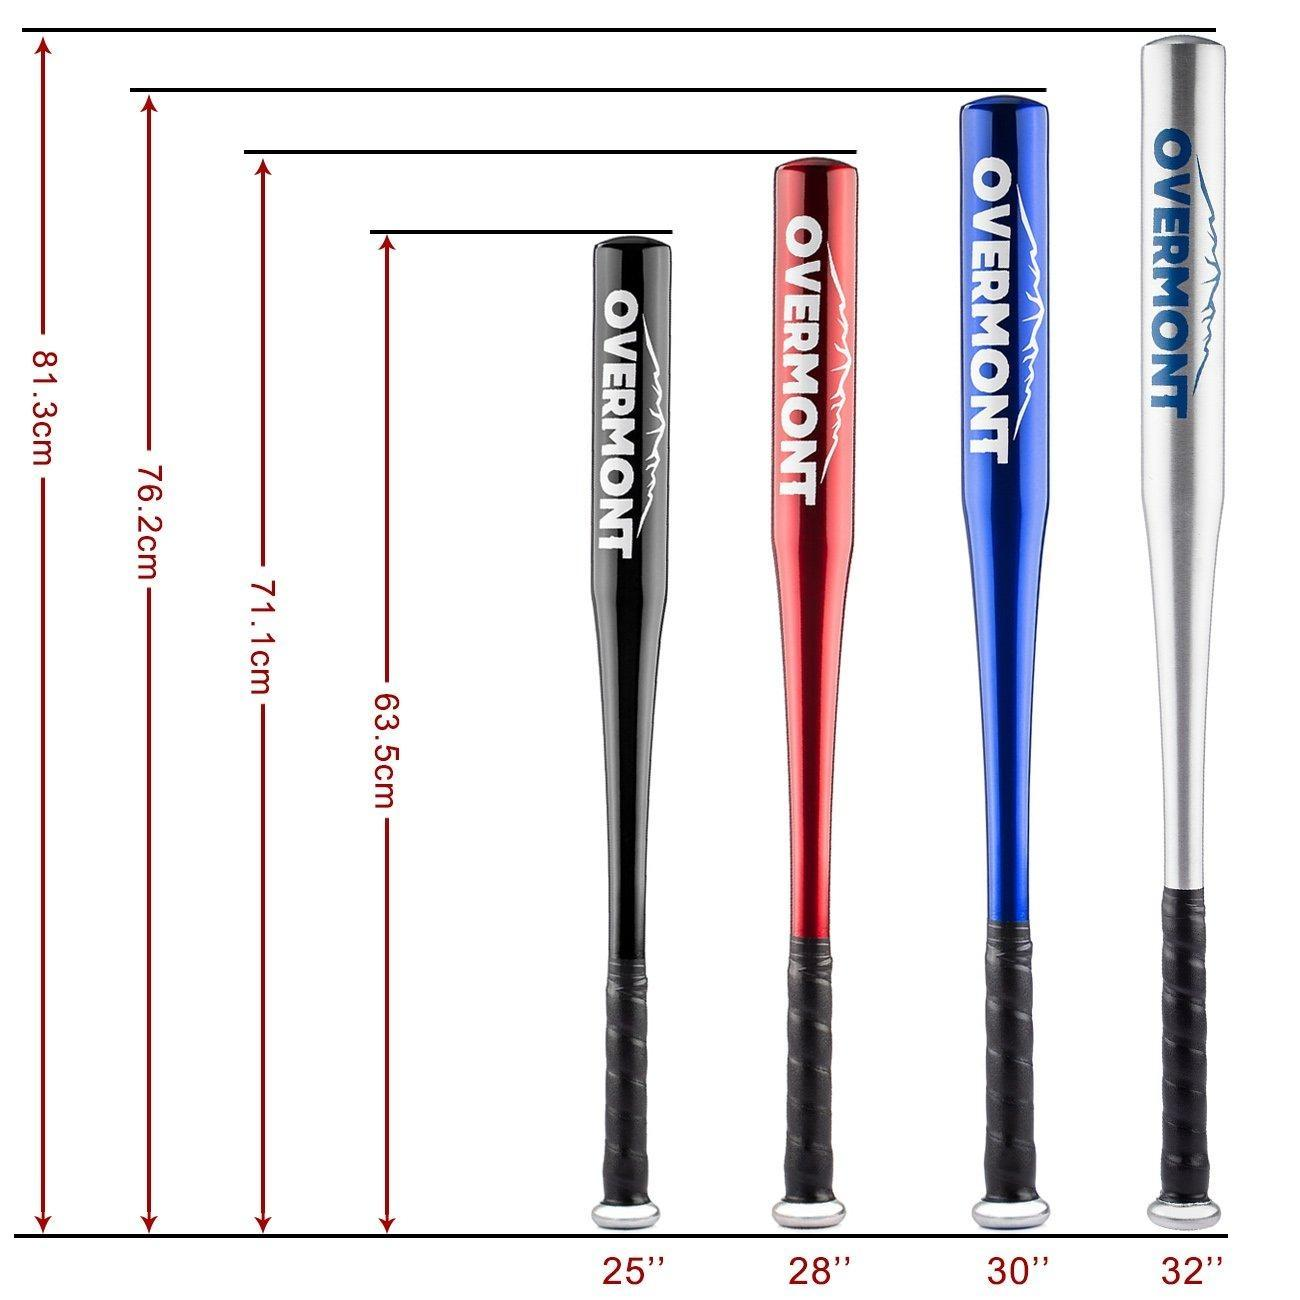Baseball-Bat: (950, 88, 1064, 1232), (573, 204, 700, 1230), (1129, 36, 1232, 1238), (760, 150, 860, 1230)
